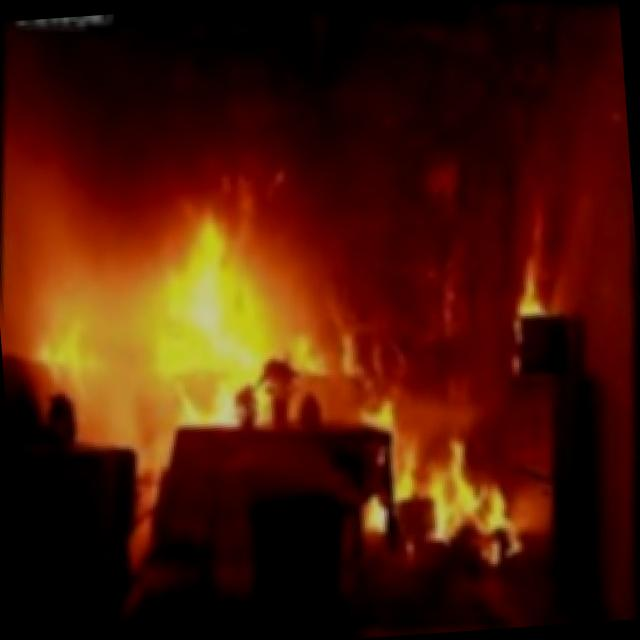fire: (0, 27, 626, 606)
